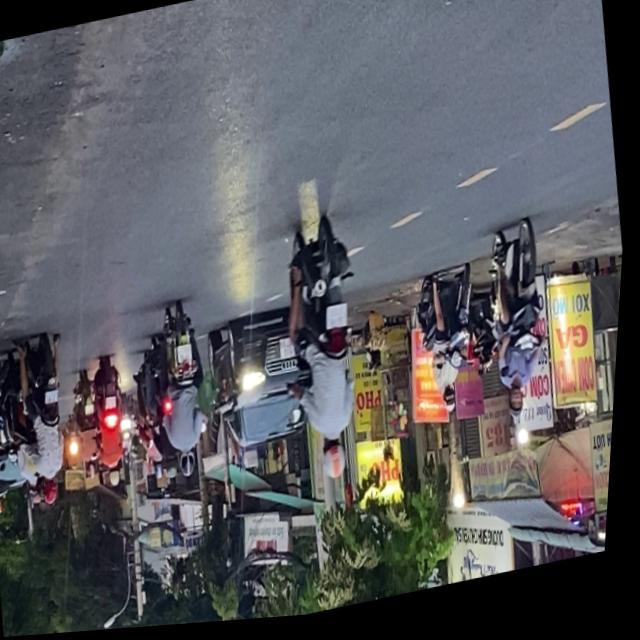helmet: (325, 440, 357, 488), (512, 392, 535, 429), (48, 478, 68, 509), (446, 390, 466, 421), (185, 454, 205, 483)
licenseplate: (270, 215, 387, 496), (477, 222, 571, 434), (11, 330, 89, 515), (152, 300, 228, 488), (410, 268, 496, 427)
nohelmet: (328, 308, 355, 337), (181, 348, 198, 368), (49, 391, 65, 407)
